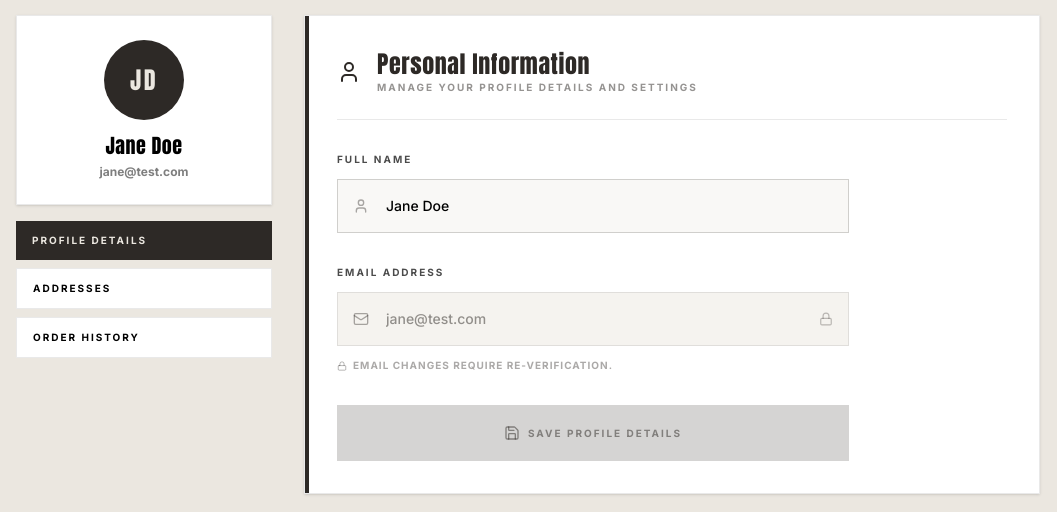
Test: Profile › shows empty address state when user has no addresses
Click the button "Addresses" at (144, 288), box [16,268,272,309]
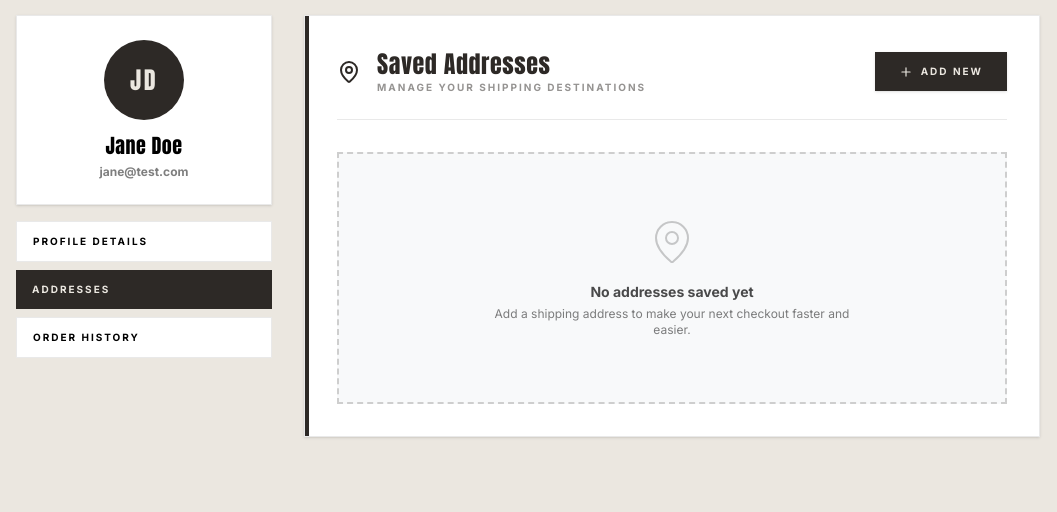
Now the text "No addresses saved yet" is shown, box [590,283,754,300]
